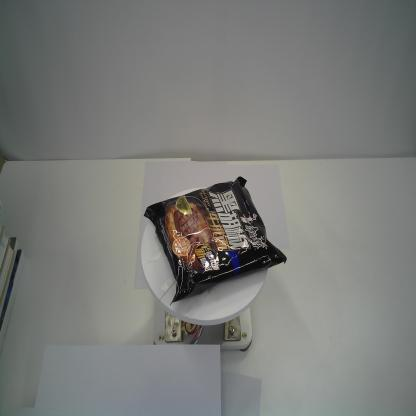Instant Noodles: (143, 177, 288, 310)
